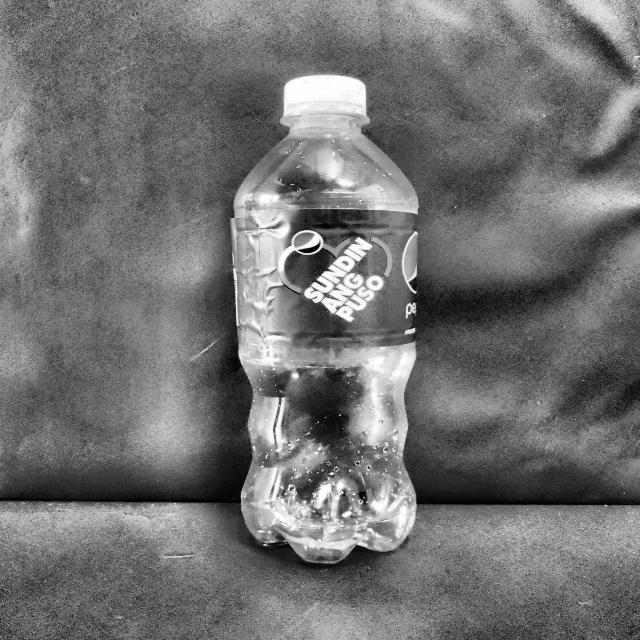Plastic-Bottle: (228, 71, 424, 569)
